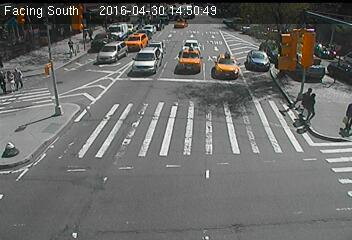neg: (88, 83, 121, 128), (249, 58, 271, 88), (116, 36, 138, 65), (165, 42, 184, 67), (201, 51, 218, 73)
pos: (304, 90, 328, 123), (334, 96, 351, 134), (13, 66, 33, 92), (64, 34, 77, 53)
